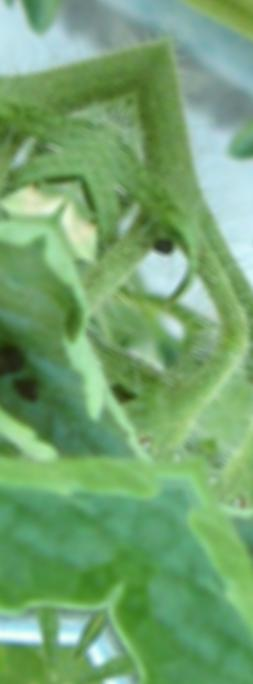Tomato leaf: (0, 262, 241, 679)
